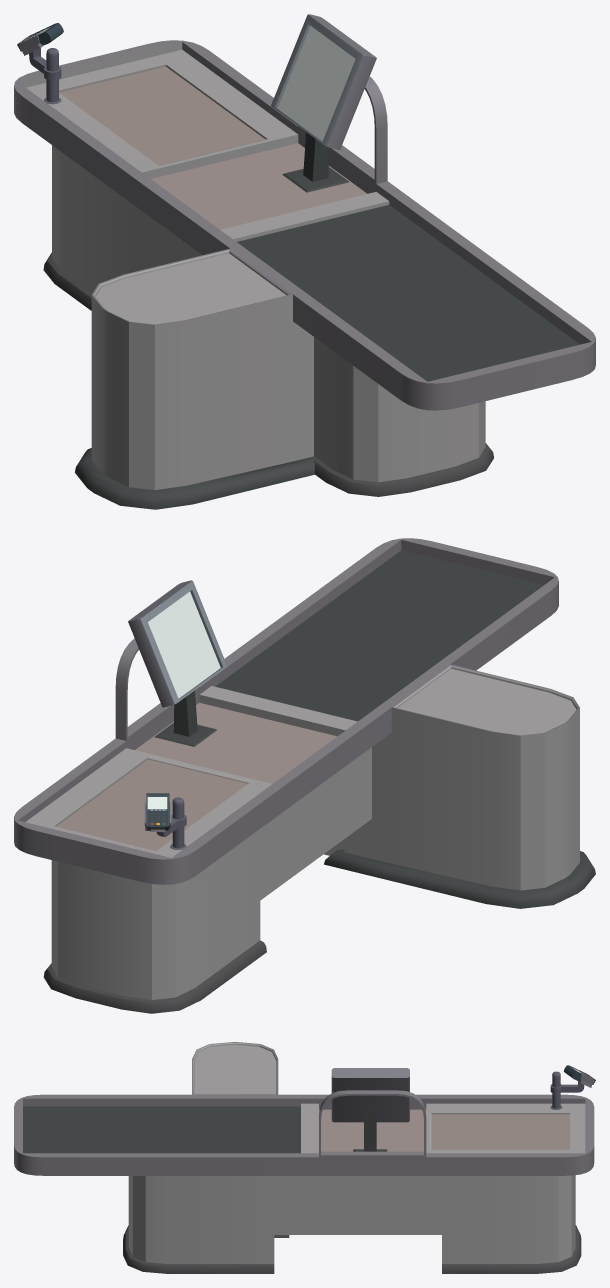
File: P_caisse.fbx
3 views of the same model, one above another, from view 1: azimuth 30°, elevation 25°; view 2: azimuth 150°, elevation 25°; view 3: azimuth 270°, elevation 25° (orthographic). The views are drawn at different scales.
Parts seen in each view (by area): view 1: Box002; view 2: Box002; view 3: Box002.
Part boxes in pixels (x1=…): Box002: x1=14, y1=14, x2=595, y2=509; Box002: x1=14, y1=538, x2=595, y2=1013; Box002: x1=14, y1=1042, x2=595, y2=1273.
Size of the model in its own units: 57.25 by 45.92 by 117.
